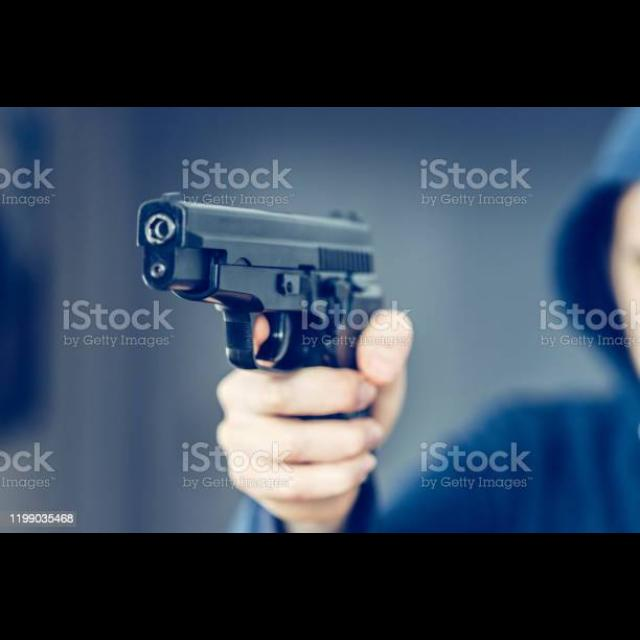handgun: (131, 188, 387, 380)
